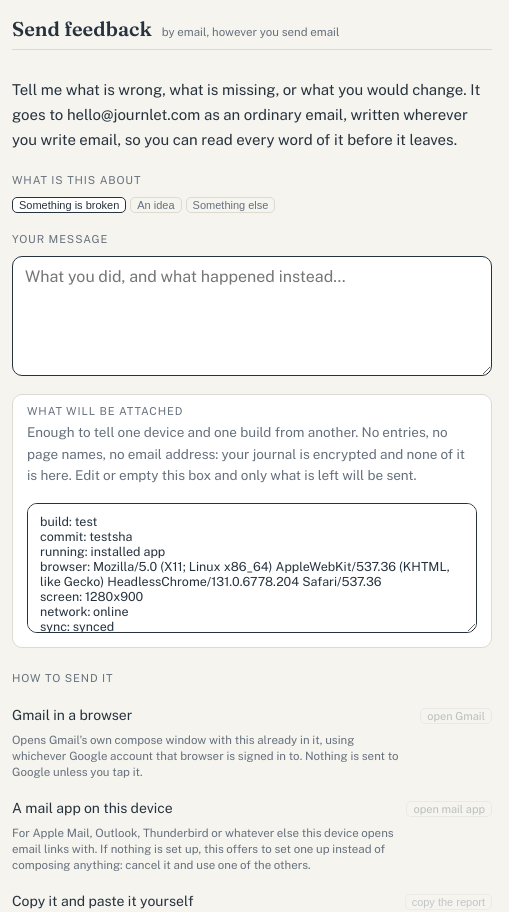
Scenario: what it claims afterwards › says a composer should be open, never that anything was sent
The width and height of the screenshot is (509, 912).
Type "a thought" into the text box named "Your message" at (252, 316), box top-left (12, 256), bottom-right (492, 376)
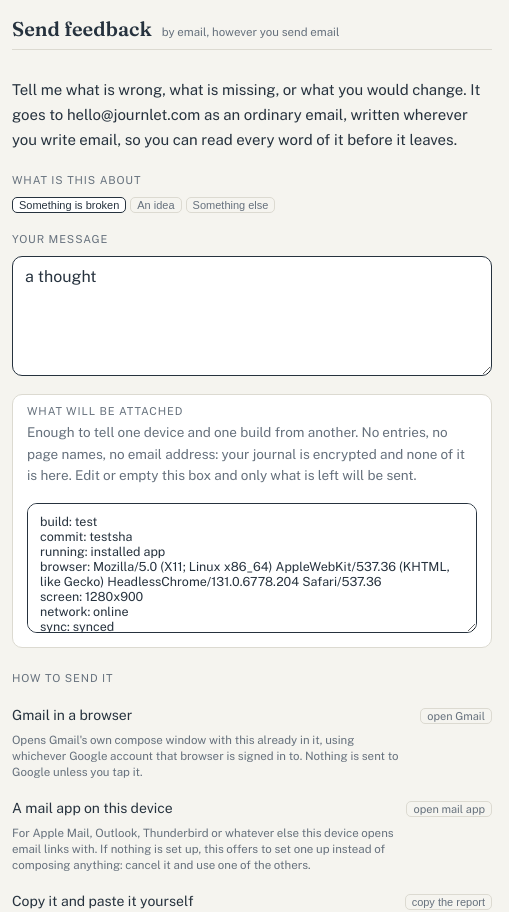
Click the link "open mail app" at (449, 808), box top-left (406, 800), bottom-right (492, 816)
(page scrolled)
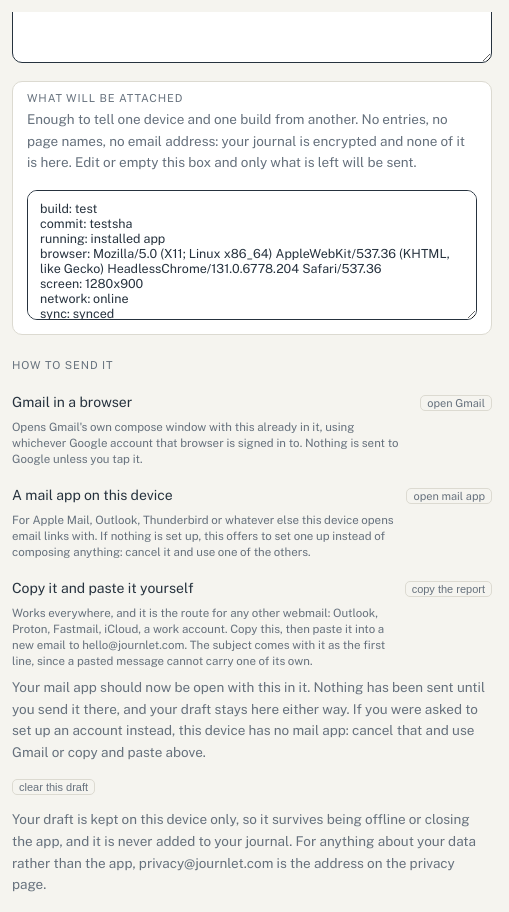
Expected: the text "Nothing has been sent until you send it there" is shown, top-left (12, 679), bottom-right (485, 760)
